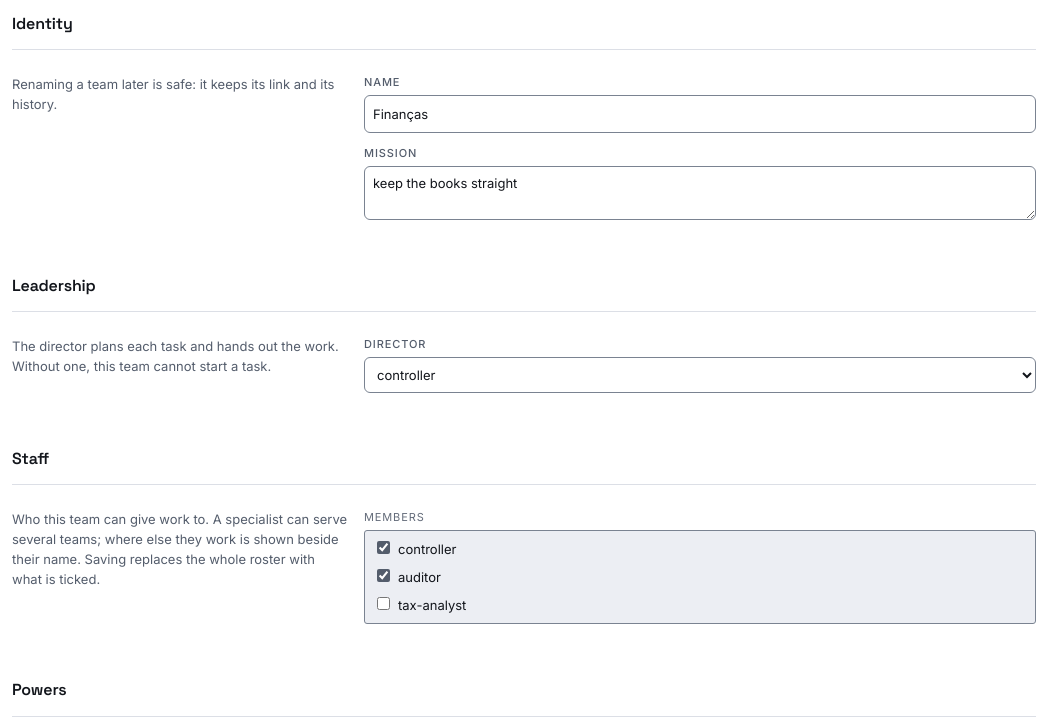
Test case: Charter - the drift guard › asks when the re-read differs from the seed in a field nobody was editing
Replace the text in the text box labelled "Mission" with "and file them": (700, 193) [364,166,1036,220]
(page scrolled)
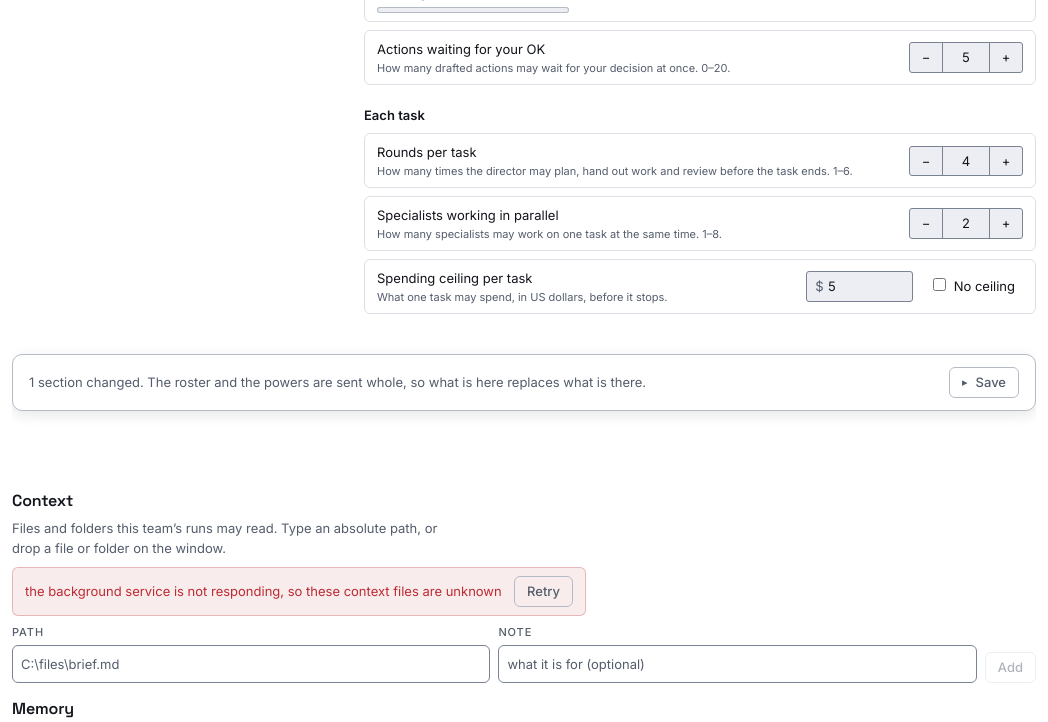
Click the button "Save": (984, 383) [949,367,1019,398]
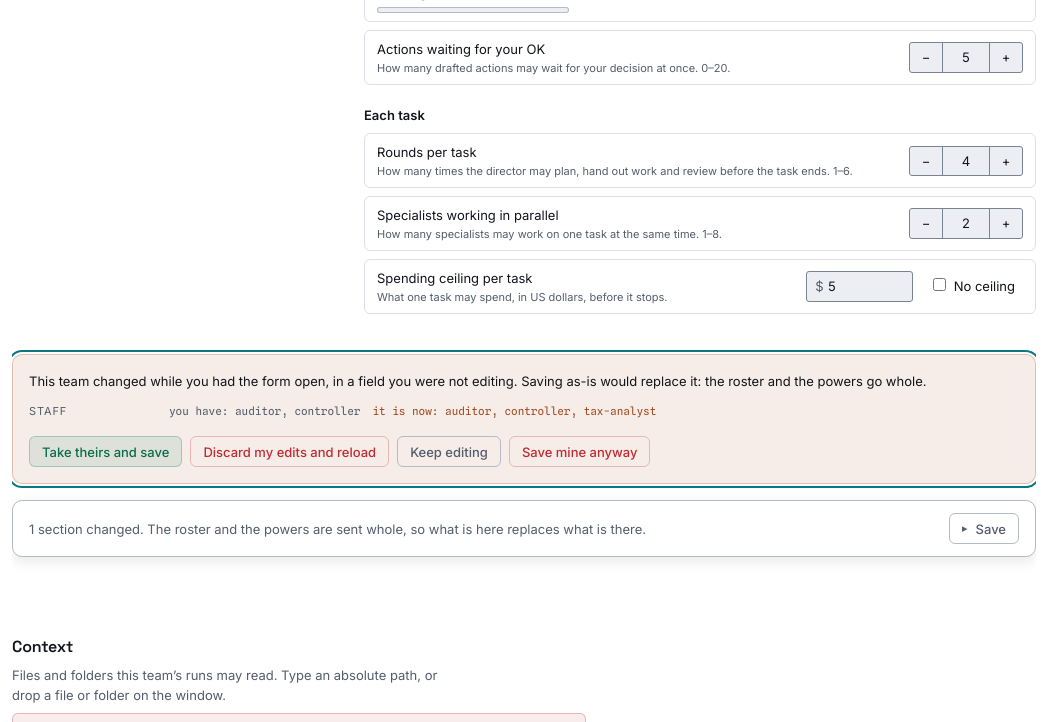
Now the text "Staff" is shown, box [29,404,67,418]
Now the text "it is now: auditor, controller, tax-analyst" is shown, box [372,403,656,420]
Now the button "Take theirs and save" is shown, box [29,436,182,467]
